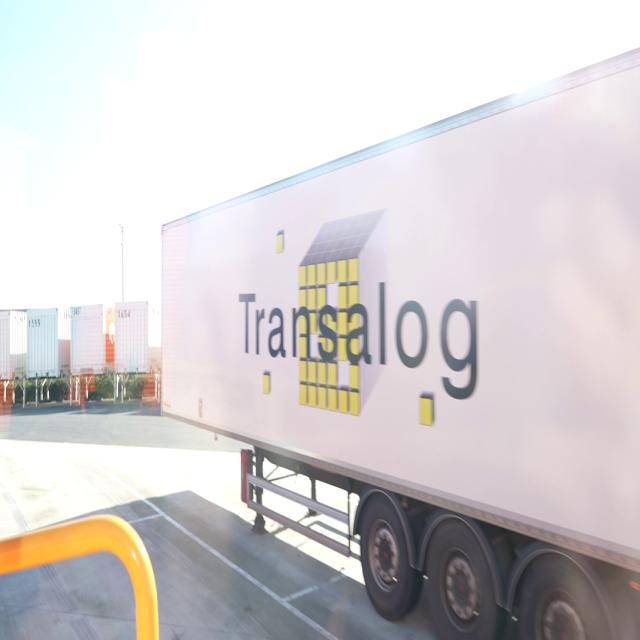Code: (24, 314, 45, 330), (116, 305, 132, 325)
